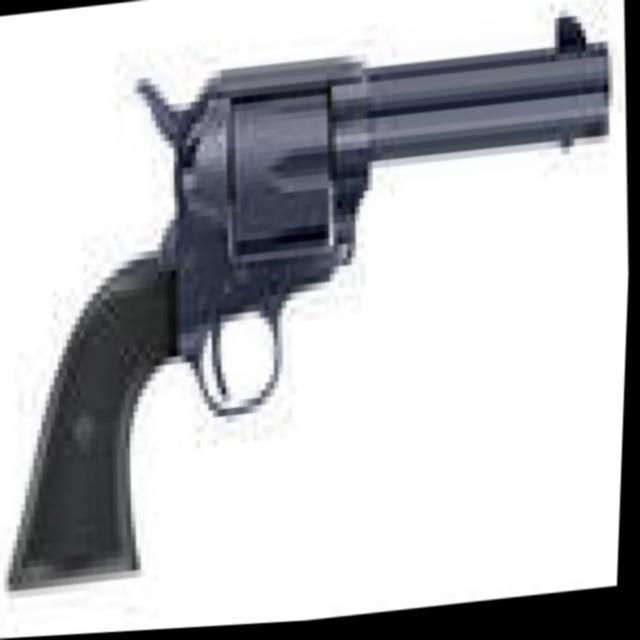weapon: (0, 11, 639, 593)
